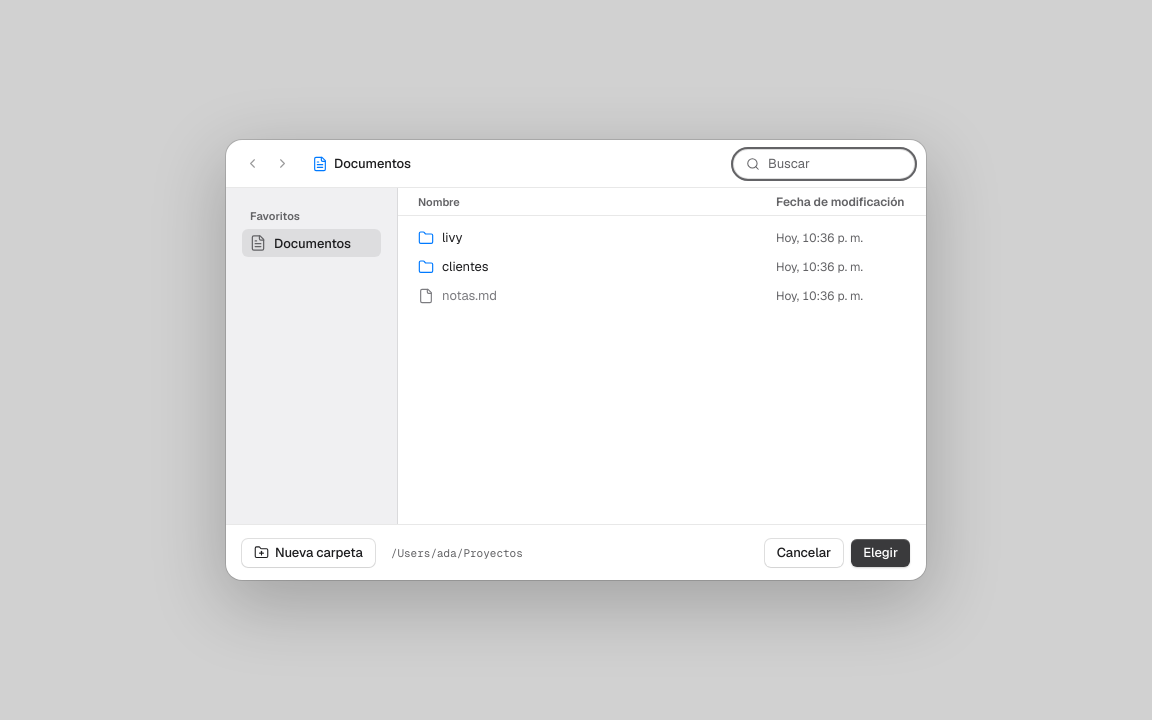
Elegir carpeta (FR-007 a FR-011) › solo se pueden seleccionar carpetas; los archivos salen deshabilitados
Expected: the option "notas.md Hoy, 10:36 p. m." is disabled, [408,282,916,310]
Click the option "livy Hoy, 10:36 p. m." at [820, 238], box [408,224,916,252]
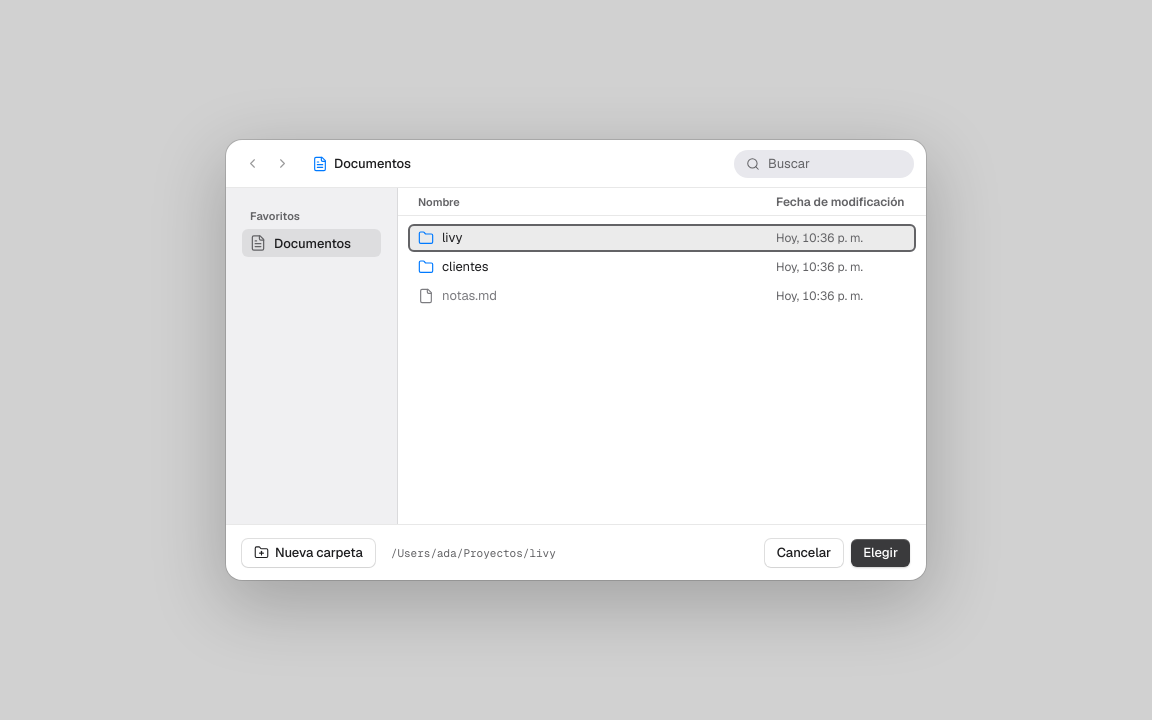
Now the text "/Users/ada/Proyectos/livy" is shown, box [391,546,556,560]
